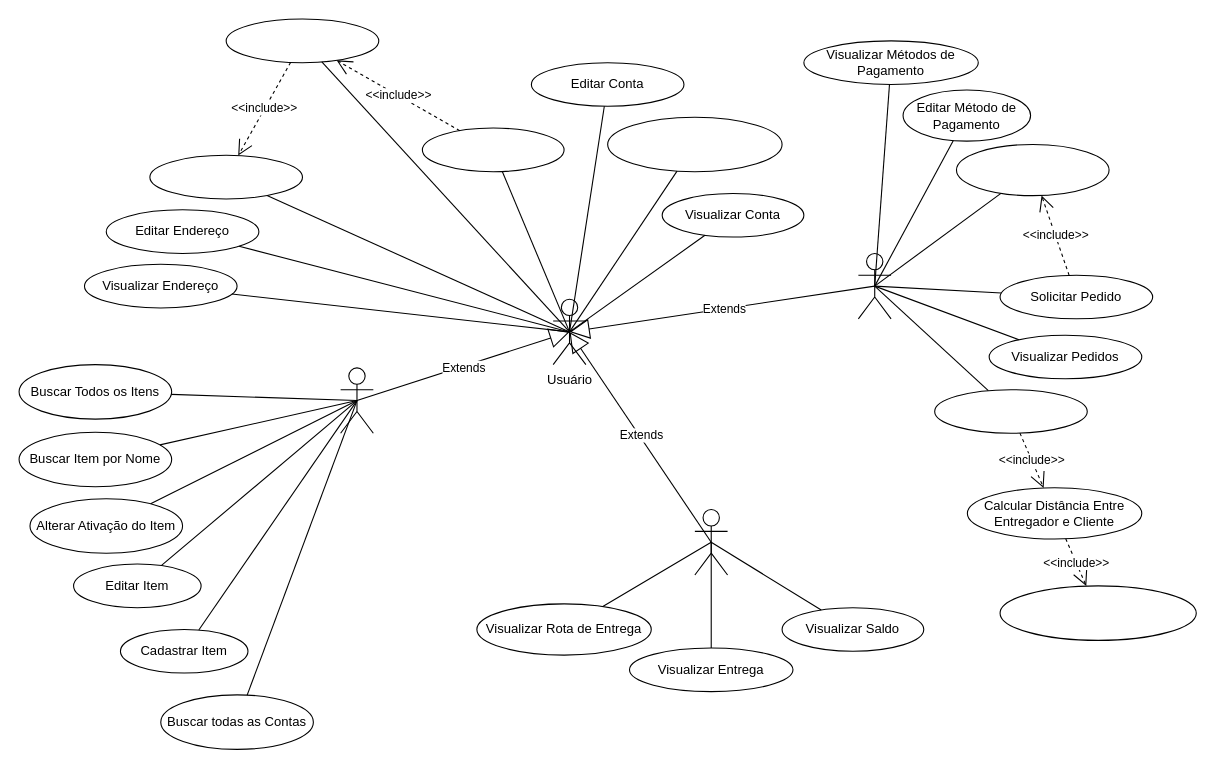
This 1215x768 diagram has some shape labels left out. The shapes that lost their labels are listed below. From the top down, each one's centre as x and y in pixels, then its label:
(x=302, y=40): Criar Conta
(x=492, y=149): Realiza Login
(x=694, y=144): Alterar Ativação da Conta
(x=225, y=176): Cadastrar Endereço
(x=1032, y=169): Cadastrar Método de Pagamento
(x=874, y=285): Cliente
(x=356, y=400): Gestor
(x=1010, y=411): Validar Pedido
(x=711, y=541): Entregador
(x=1097, y=612): Verificar se o Pedido já foi validado
